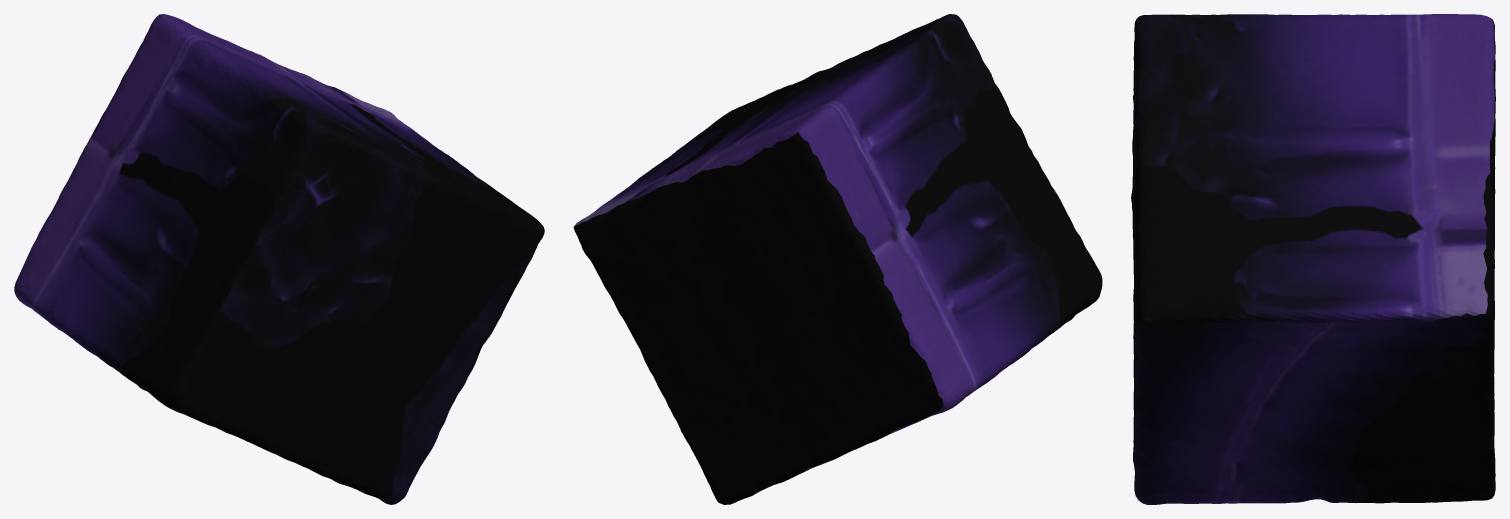
3 renders of one model, left to right at view 1: azimuth 30°, elevation 25°; view 2: azimuth 150°, elevation 25°; view 3: azimuth 270°, elevation 25°, orthographic. The views are drawn at different scales.
Visible parts, largest first — view 1: node; view 2: node; view 3: node.
Boxes of the visible parts, x1,y1,x2,y2 form: node: (14,14,544,504); node: (573,14,1102,504); node: (1131,14,1495,504).
Size of the model in its own units: 0.0349 by 0.0349 by 0.0258.
